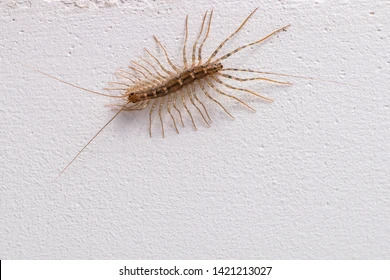centipede: (48, 12, 314, 139)
